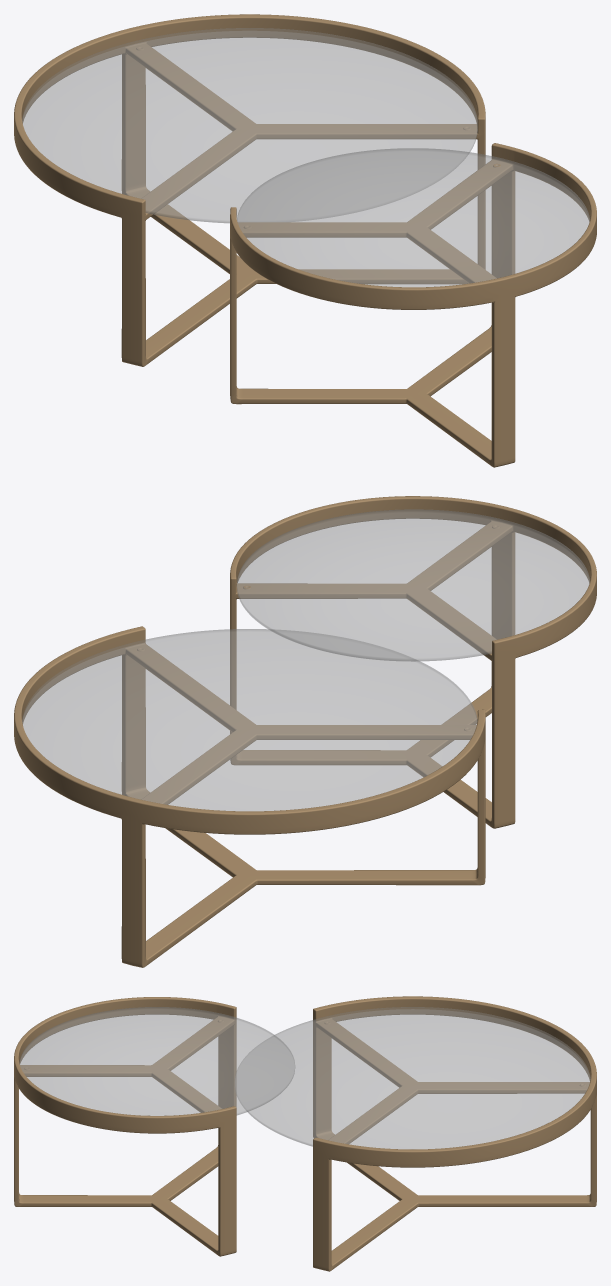
Rendered from aula.gltf.
The picture shows the model from 3 angles, top to bottom: view 1: azimuth 30°, elevation 25°; view 2: azimuth 150°, elevation 25°; view 3: azimuth 270°, elevation 25°; orthographic projection. The views are drawn at different scales.
Parts seen in each view (by area): view 1: GREEN_GLASS, COPPER; view 2: GREEN_GLASS, COPPER; view 3: GREEN_GLASS, COPPER.
Boxes of the visible parts, box(x1,y1,x2,y2) form: GREEN_GLASS: box(22, 28, 589, 287); COPPER: box(14, 14, 596, 467); GREEN_GLASS: box(22, 509, 589, 811); COPPER: box(14, 496, 596, 967); GREEN_GLASS: box(19, 1007, 590, 1149); COPPER: box(14, 996, 596, 1271).
Size of what is drawn, in the model's own units: 90.09 by 39.74 by 143.
